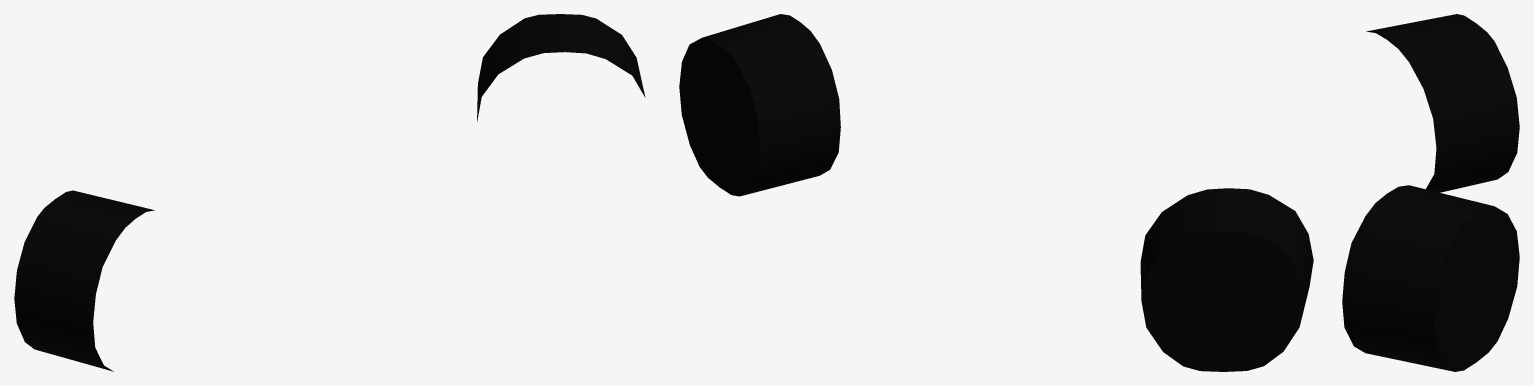
File: 11-Offset-Silly-Face-eyes.glb
3 renders of one model, left to right at view 1: azimuth 30°, elevation 25°; view 2: azimuth 150°, elevation 25°; view 3: azimuth 270°, elevation 25°, orthographic. The views are drawn at different scales.
Parts seen in each view (by area): view 1: 11-Offset-Silly-Face-eyes; view 2: 11-Offset-Silly-Face-eyes; view 3: 11-Offset-Silly-Face-eyes.
Part boxes in pixels (x1,y1,x2,y2): 11-Offset-Silly-Face-eyes: [14, 14, 645, 371]; 11-Offset-Silly-Face-eyes: [679, 14, 1313, 371]; 11-Offset-Silly-Face-eyes: [1342, 14, 1519, 371].
Size of the model in its own units: 0.8625 by 0.2713 by 0.2032.
2 materials, 2 textured.
